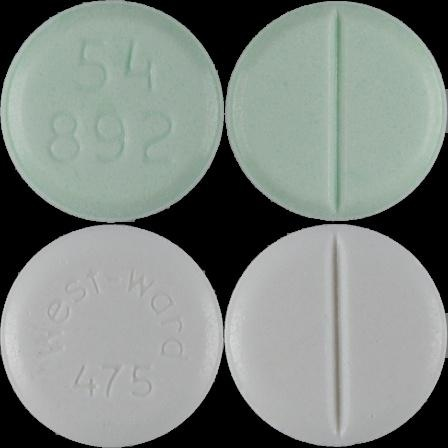50090-0089: (0, 0, 224, 224)
